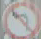Don't turn left: (1, 0, 39, 38)
